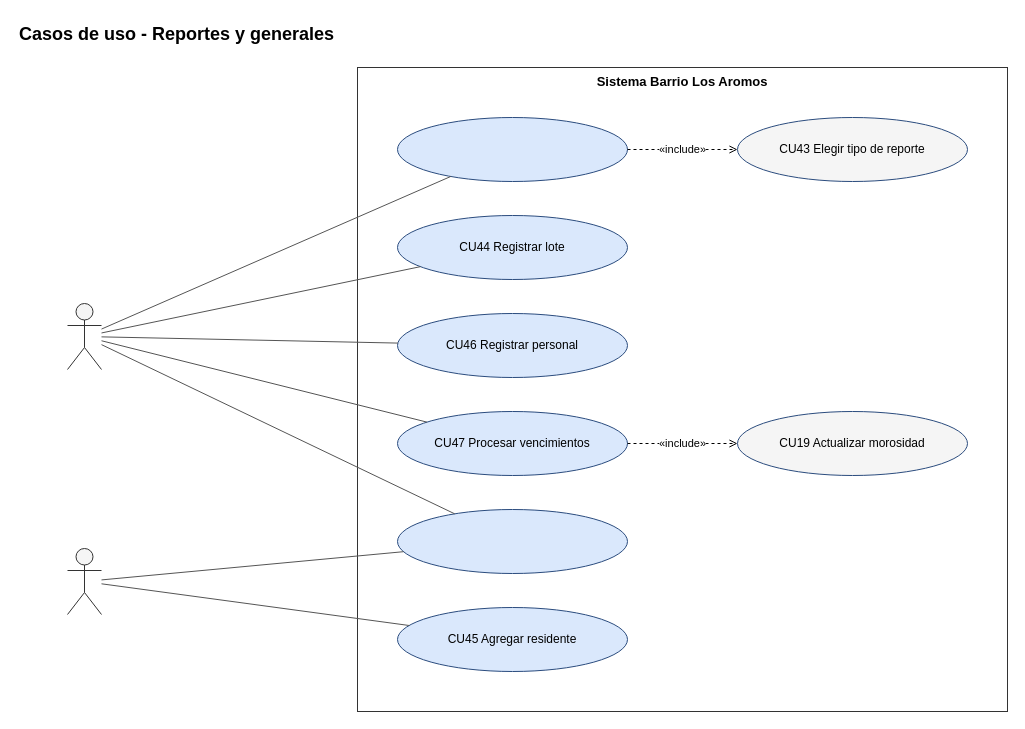
Some shapes in this 1025 by 729 pixel diagram are drawn without their labels. The shapes that lost their labels are listed below. From the top down, each one's centre as x and y in pixels, then its label:
At point 512,149: "CU42 Emitir reportes".
At point 84,336: "Administrador".
At point 512,541: "CU48 Ver notificaciones".
At point 84,581: "Titular".
